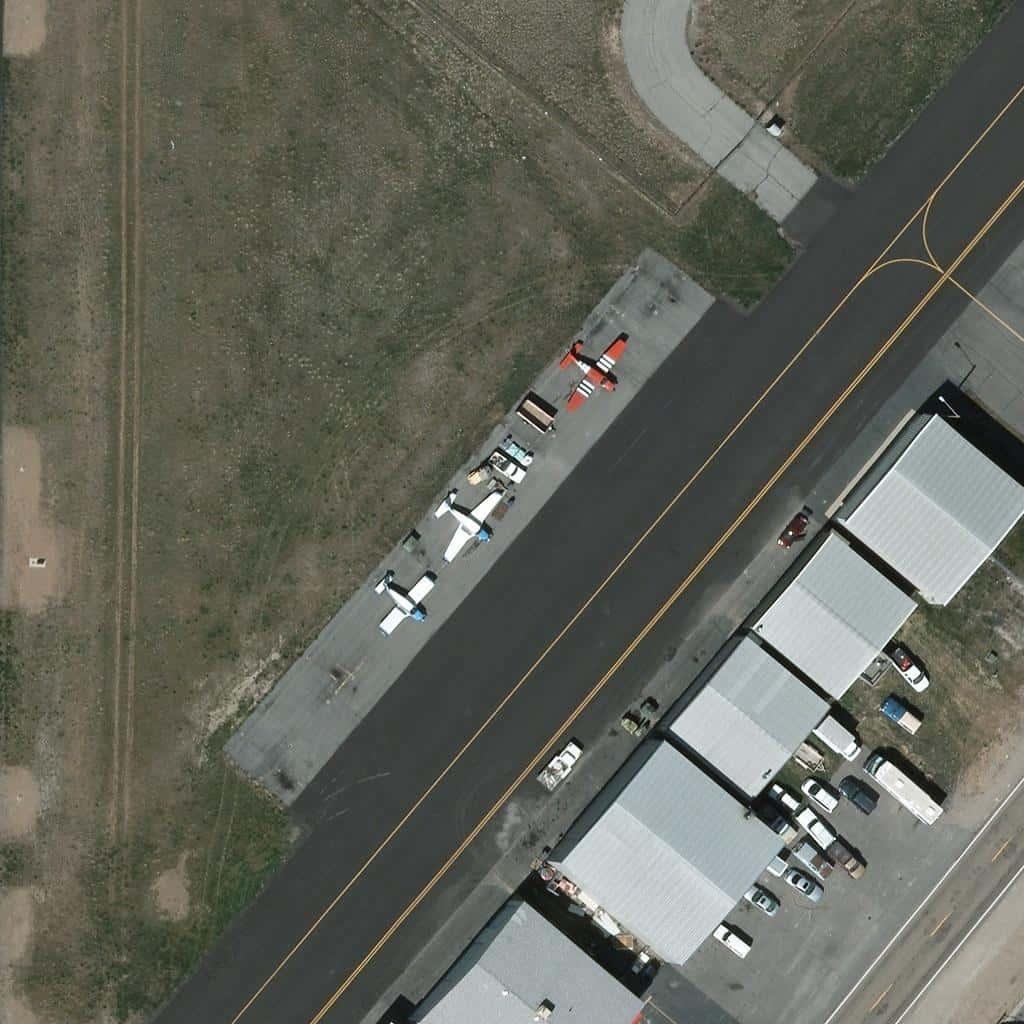plane: (437, 490, 499, 569), (565, 330, 627, 409), (374, 570, 438, 639)
